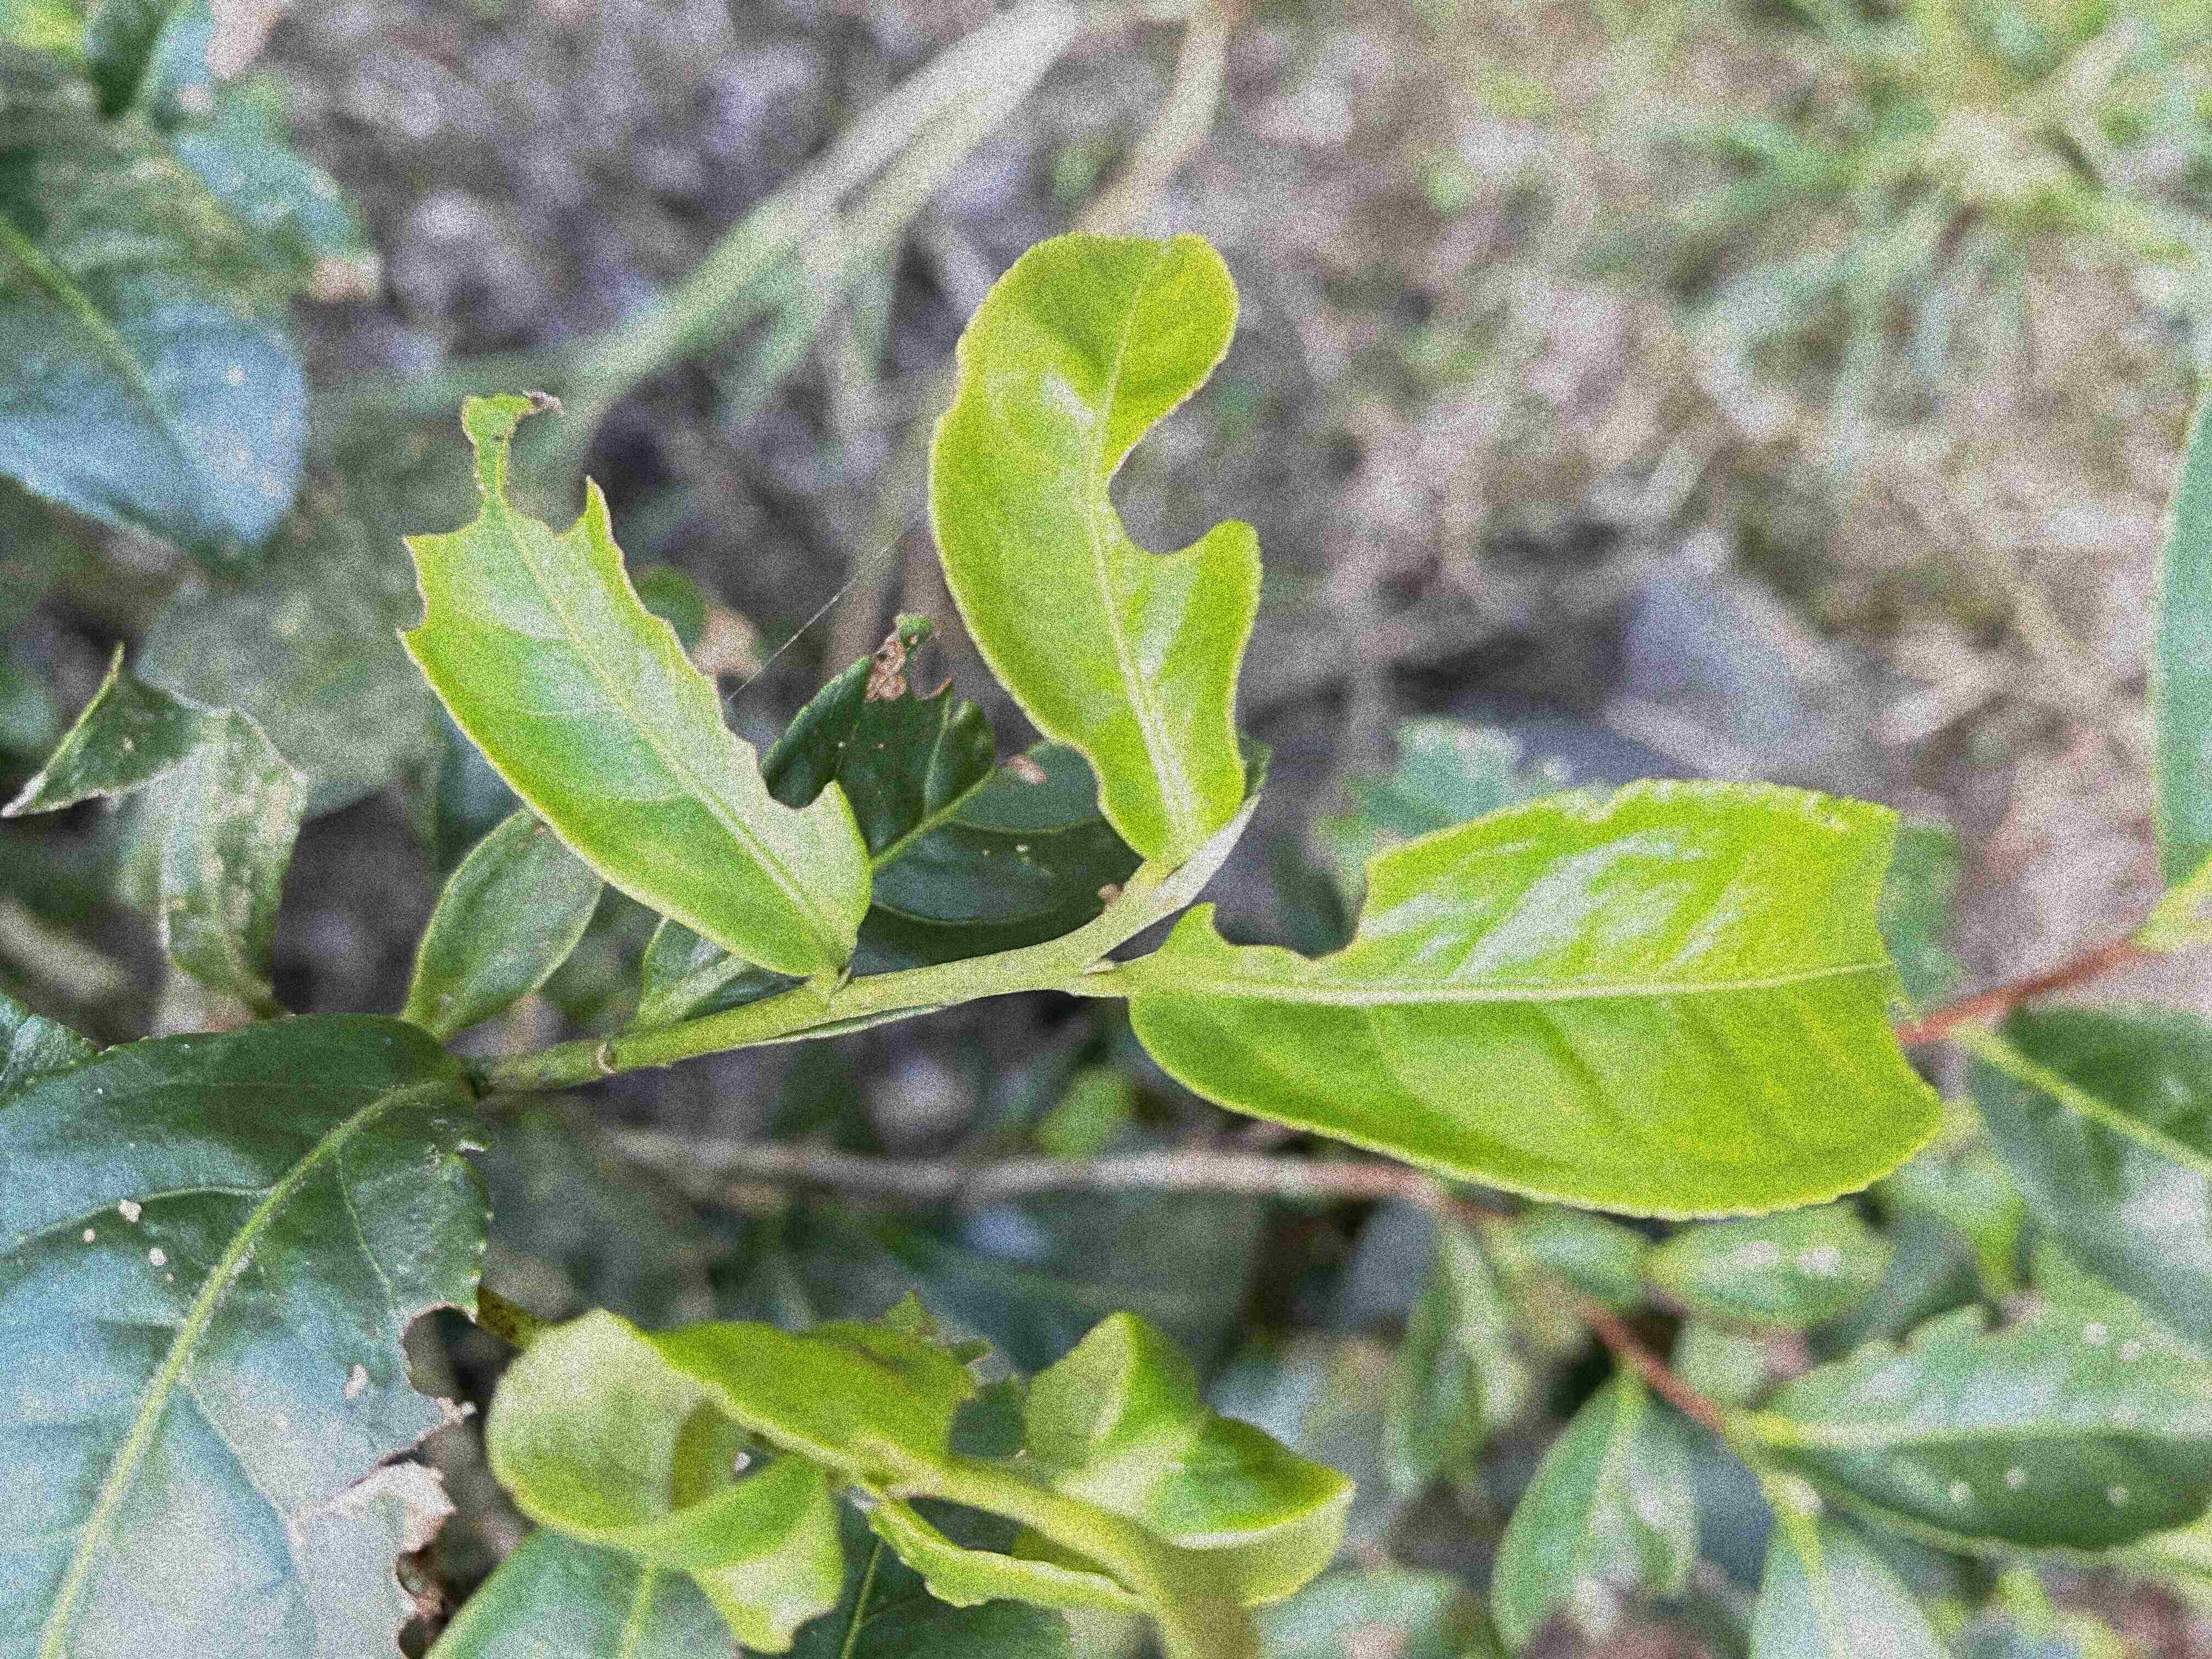chihuo_high: (1123, 774, 1951, 1229), (2, 1007, 498, 1657), (394, 382, 878, 978), (923, 230, 1263, 866), (2, 638, 317, 1032)
